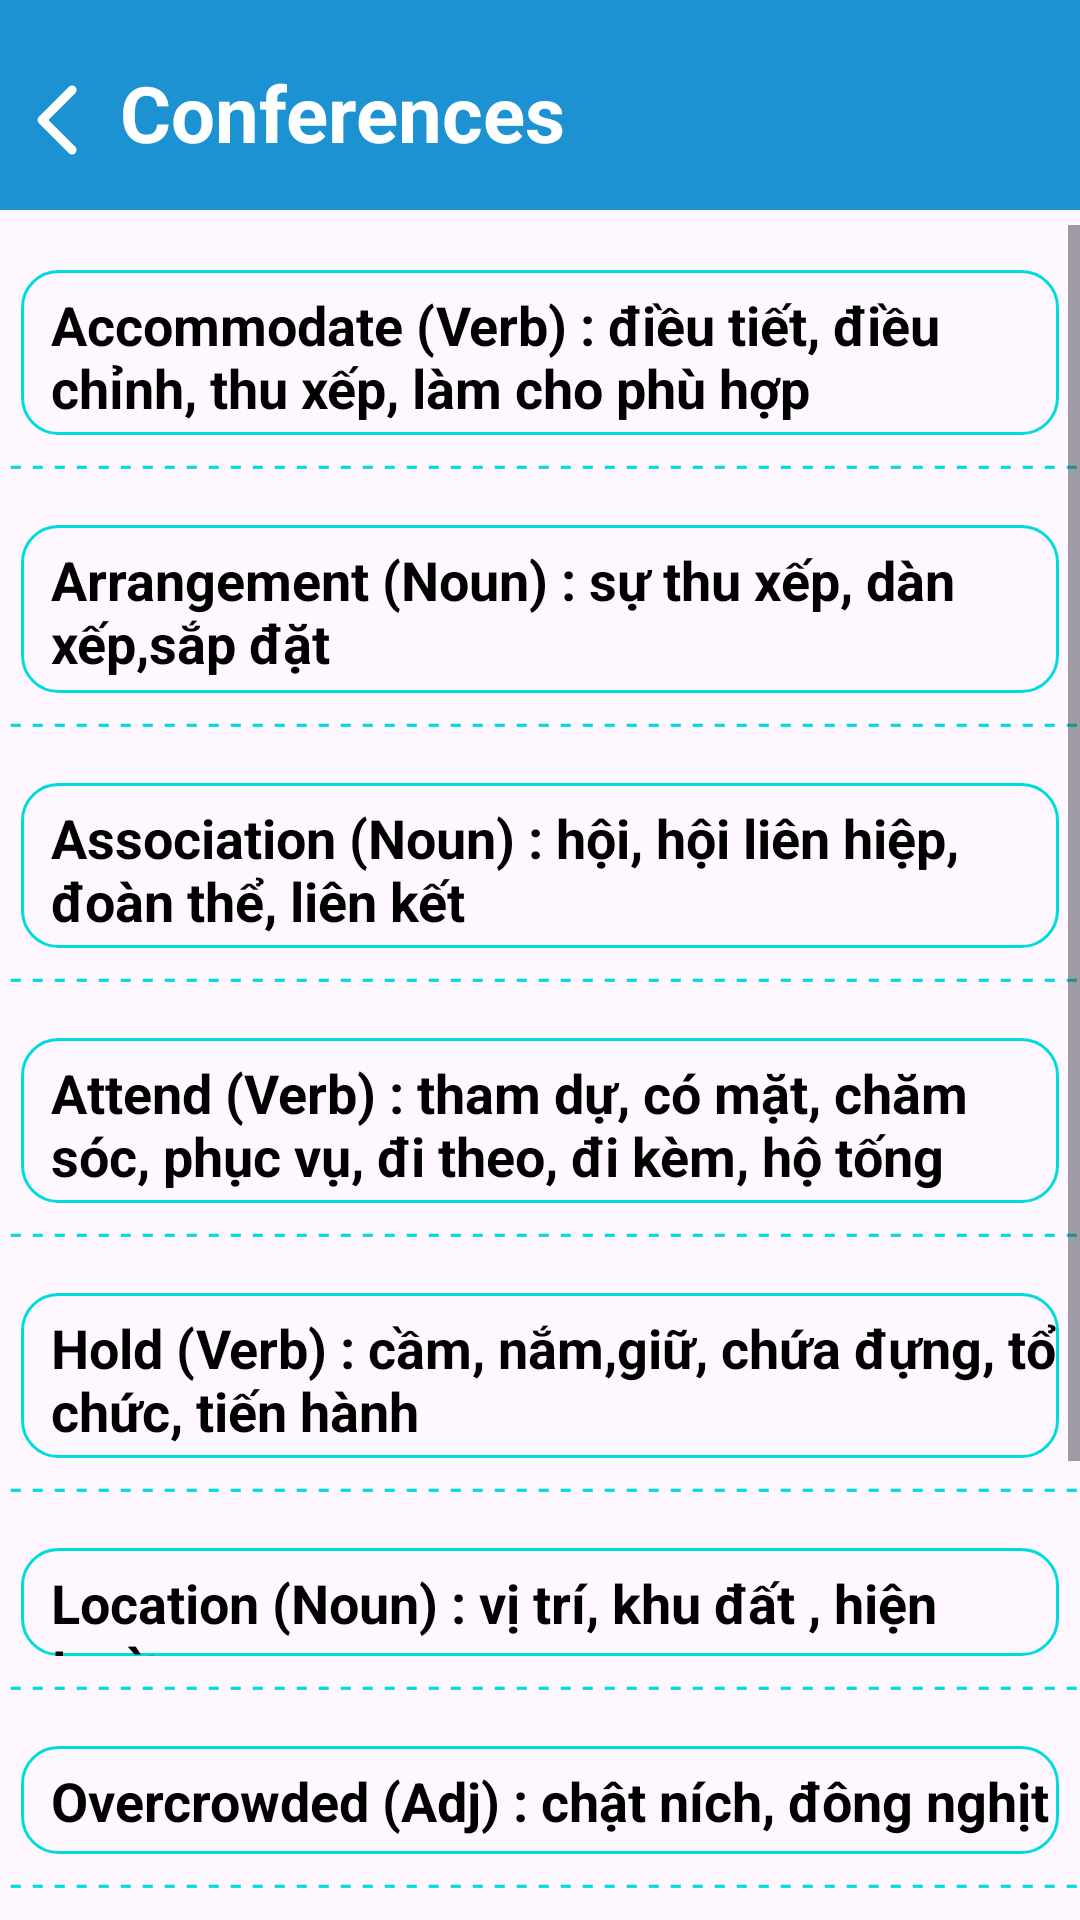

Icons on this 1080 × 1920 Android screen, each with the point to tap as (x=x, y=y):
angle left full: (x=57, y=120)
